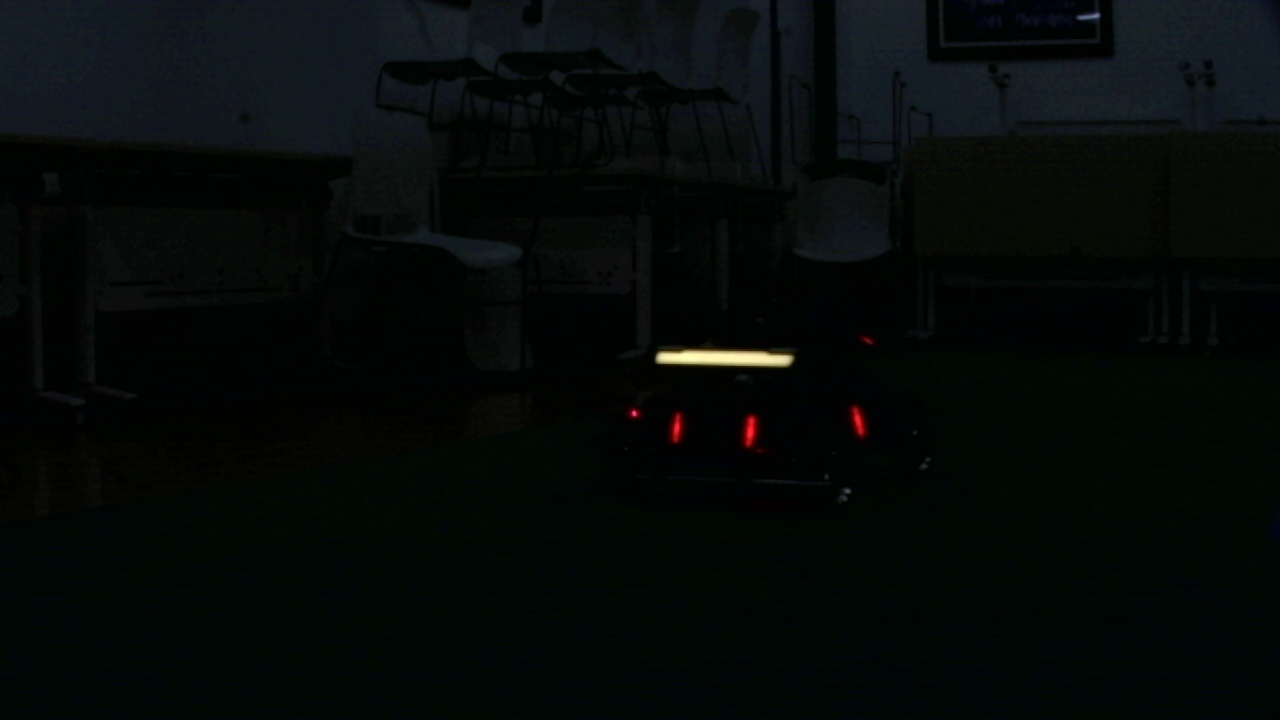lamp: (739, 411, 758, 449), (668, 408, 686, 446), (847, 405, 865, 437)
pair1: (671, 413, 756, 444)
